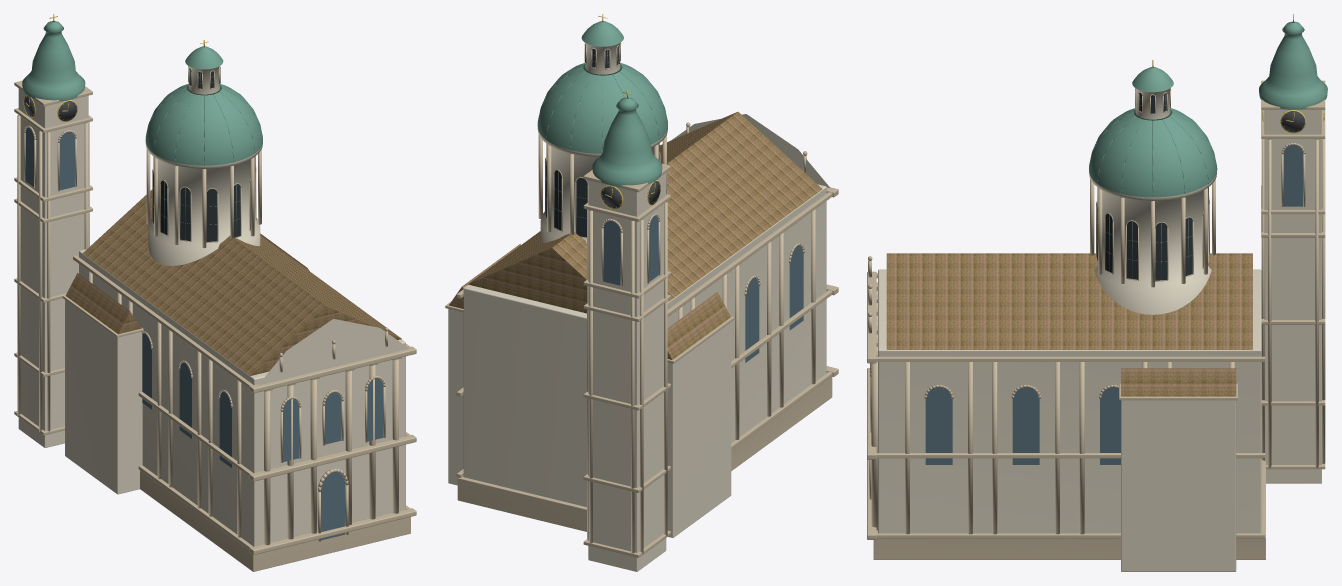
The model's file is landmark_mikulas.glb.
3 renders of one model, left to right at view 1: azimuth 30°, elevation 25°; view 2: azimuth 150°, elevation 25°; view 3: azimuth 270°, elevation 25°, orthographic. The views are drawn at different scales.
Visible parts, largest first — view 1: Ivory historic stucco, Bohemian warm sandstone, Terracotta church roof, Oxidised green copper, Car glazing, Historic dark window panes; view 2: Ivory historic stucco, Bohemian warm sandstone, Terracotta church roof, Oxidised green copper, Car glazing, Historic dark window panes, Chassis graphite; view 3: Ivory historic stucco, Terracotta church roof, Bohemian warm sandstone, Oxidised green copper, Car glazing, Historic dark window panes.
Part boxes in pixels (x1,y1,x2,y2): Ivory historic stucco: (18,66,408,546); Bohemian warm sandstone: (14,66,416,571); Terracotta church roof: (65,189,401,375); Oxidised green copper: (22,21,262,165); Car glazing: (25,127,383,540); Historic dark window panes: (152,68,250,241); Ivory historic stucco: (448,43,830,571); Bohemian warm sandstone: (445,42,838,557); Terracotta church roof: (449,111,822,359); Oxidised green copper: (537,21,667,186); Car glazing: (603,216,803,362); Historic dark window panes: (545,44,619,237); Chassis graphite: (601,181,660,208); Ivory historic stucco: (878,88,1321,571); Terracotta church roof: (886,253,1252,396); Bohemian warm sandstone: (867,80,1325,559); Oxidised green copper: (1089,21,1327,197); Car glazing: (925,145,1302,464); Historic dark window panes: (1096,93,1203,280).
Size of the model in its own units: 42.72 by 79 by 72.04.
Materials: 9 (1 with a texture image).
